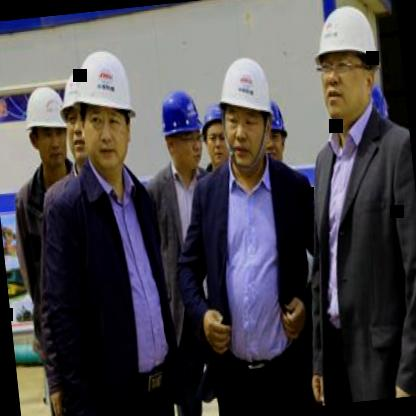head: (198, 103, 230, 167)
helmet: (305, 0, 388, 130), (71, 40, 147, 177), (212, 46, 281, 174), (152, 86, 206, 180), (25, 84, 71, 182), (58, 62, 93, 172), (260, 94, 294, 170)
